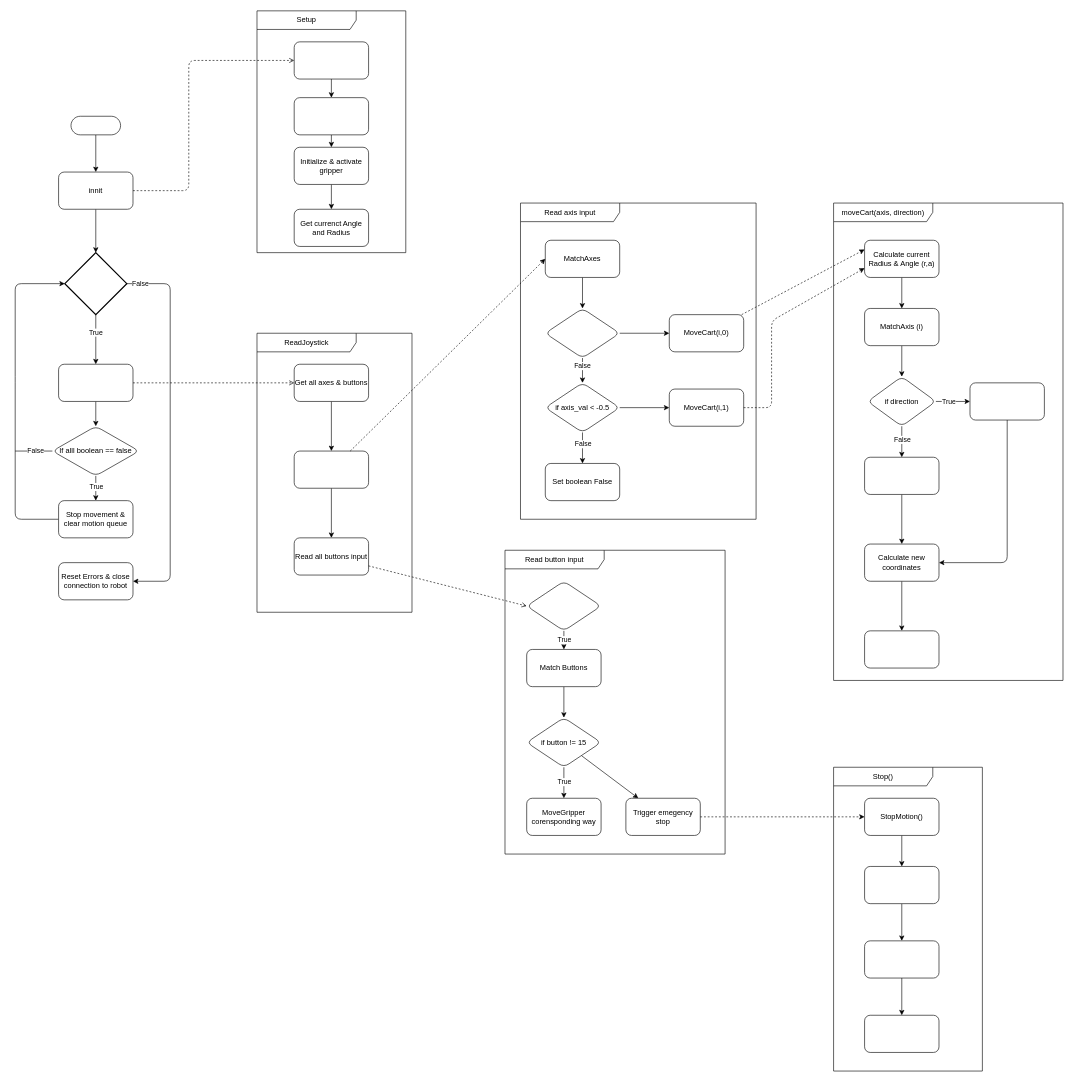
This 1074x1082 diagram has some shape labels left out. The centre of each missing label's shape, as x and y in pixels:
Connect to robot: [331,116]
Decrease corrensponding position value: [901,475]
DragTeachSwitch(0): [901,1033]
DragTeachSwitch(1): [901,885]
if axis_val > 0.5: [582,333]
if button == high: [563,606]
Increase corensponding position value: [1006,401]
initialize Pygame & joysticks: [331,60]
Move robot to new coordinates: [901,649]
Read all axis inputs: [331,469]
ReadJoystick(): [95,382]
sleep(5): [901,959]
Start: [95,125]
while True: [95,283]
